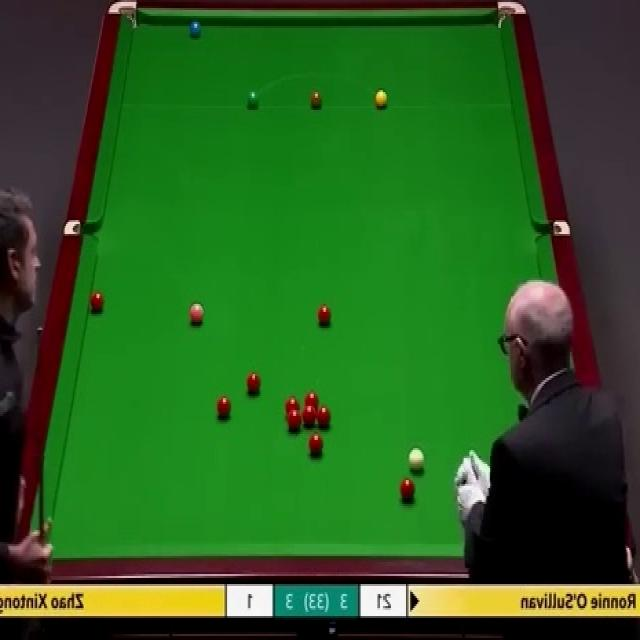pocket: (107, 2, 138, 32), (496, 1, 528, 30), (536, 221, 570, 240), (64, 222, 98, 240)
